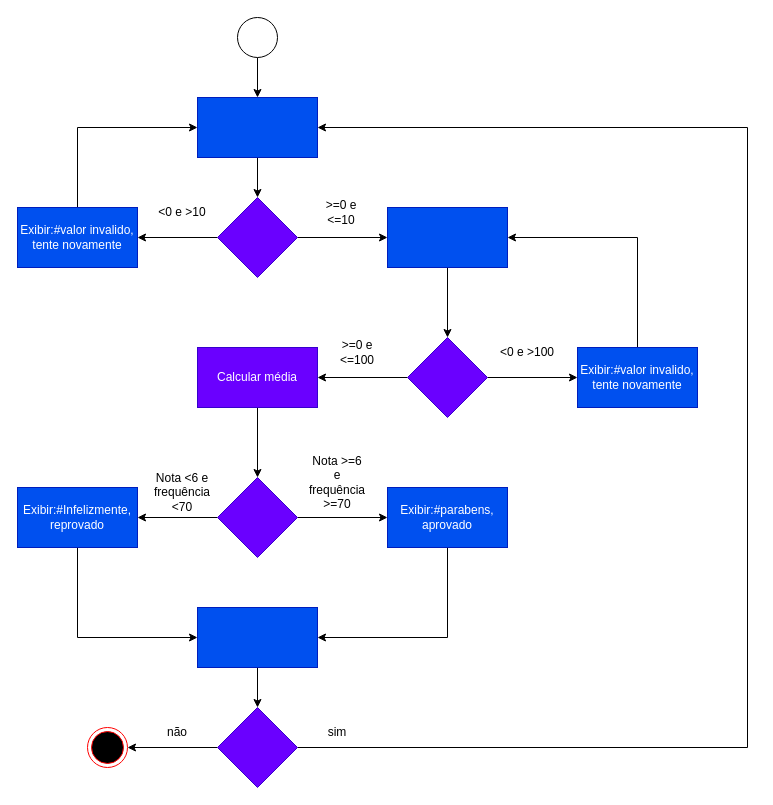
Image size: 773x805. Some labels were removed from this diagram. Each missing label, with the box of its shape:
Exibir:#Gostaria de continuar?: (196, 606, 318, 668)
Ler frequência: (386, 206, 508, 268)
Ler nota de Aluno: (196, 96, 318, 158)
